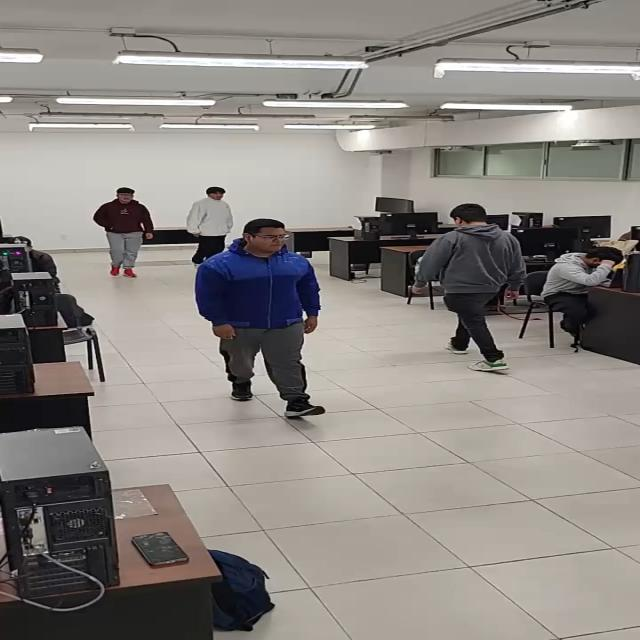Persona: (194, 216, 331, 424), (409, 200, 526, 377), (94, 184, 158, 281), (184, 182, 237, 257)
